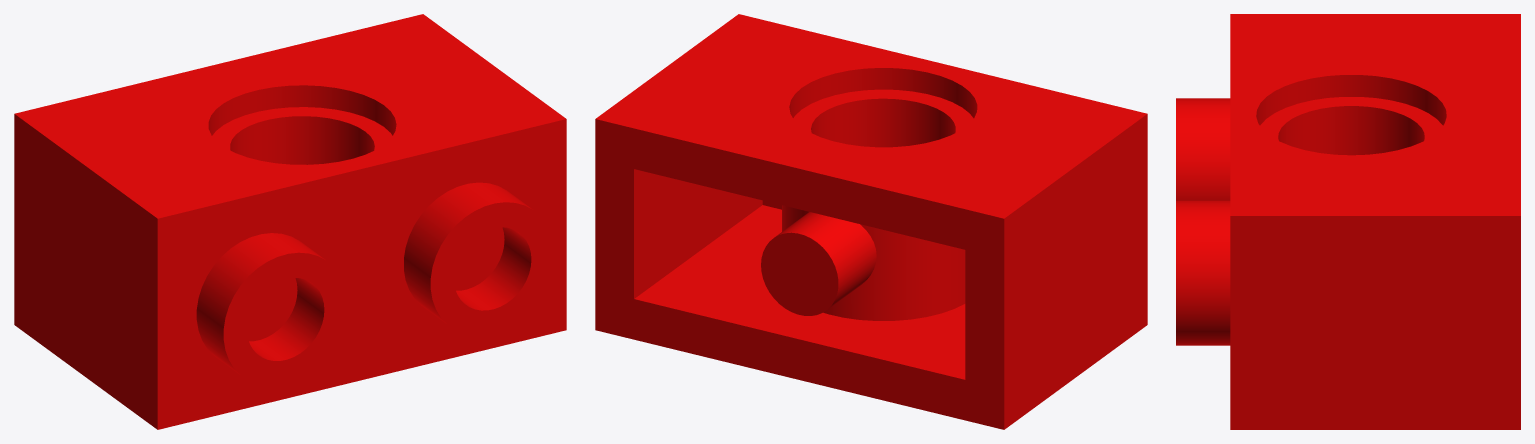
File: technic_brick_2_red.glb
The picture shows the model from 3 angles, left to right: view 1: azimuth 30°, elevation 25°; view 2: azimuth 150°, elevation 25°; view 3: azimuth 270°, elevation 25°; orthographic projection.
Visible parts, largest first — view 1: base; view 2: base; view 3: base.
Boxes of the visible parts, x1=… form: base: x1=14, y1=14, x2=566, y2=429; base: x1=595, y1=14, x2=1147, y2=429; base: x1=1176, y1=14, x2=1520, y2=429.
Bounding box in the file's own units: 0.0158 × 0.0078 × 0.0114.
